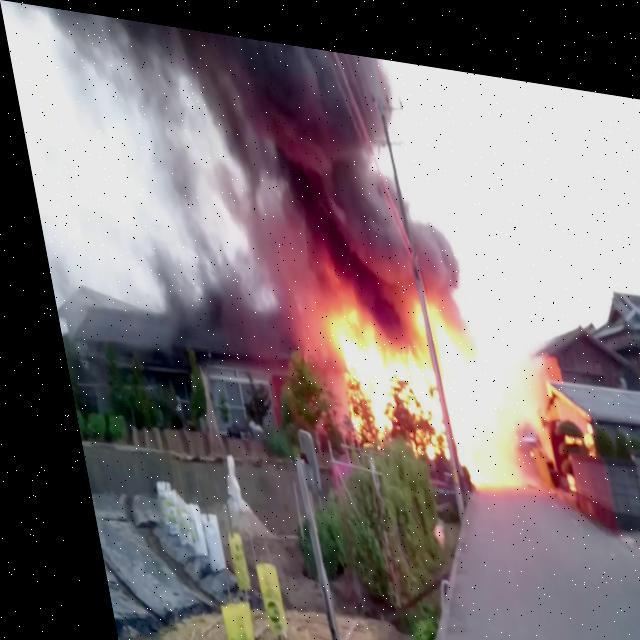Fire: (304, 282, 540, 490)
